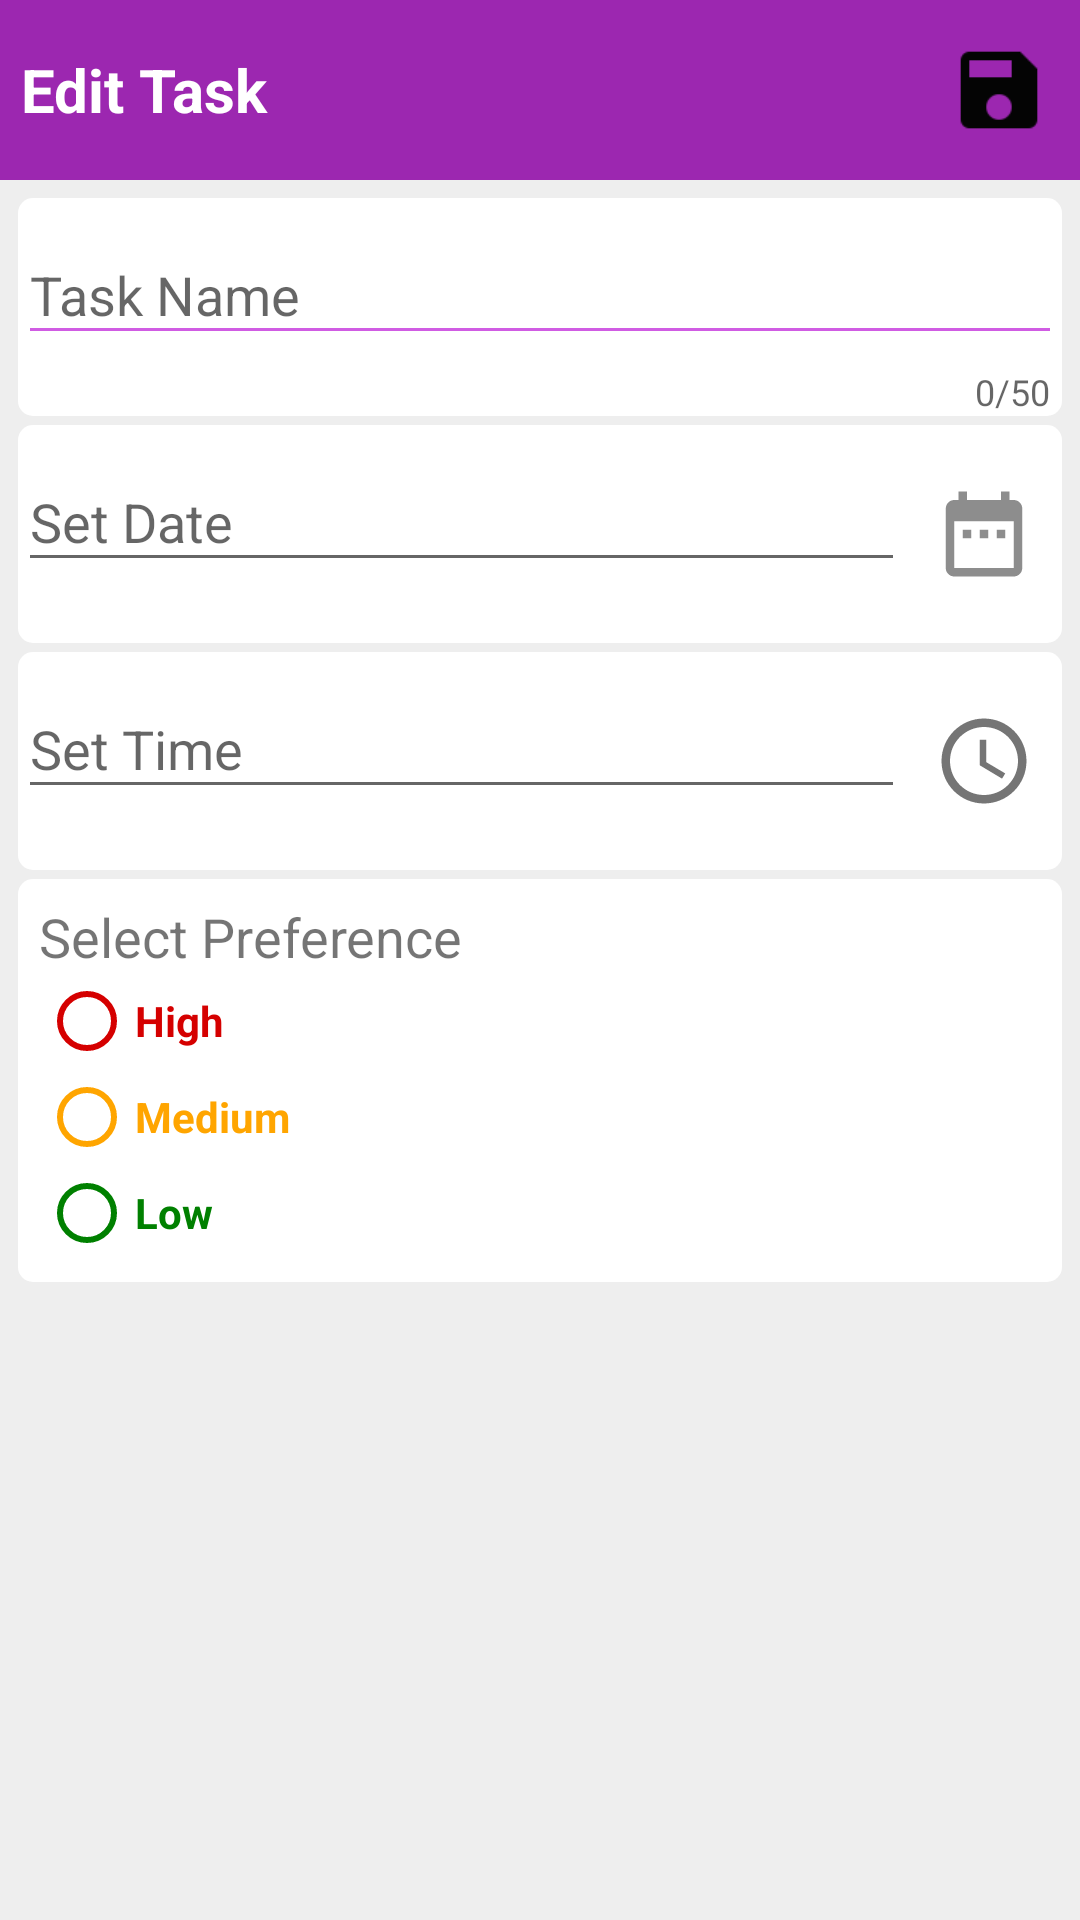

Where to tap for icons on this 1080px×1920px app screen, as [x,y]:
dateicon: [984,534]
saveicon: [999,90]
timeicon: [984,761]
